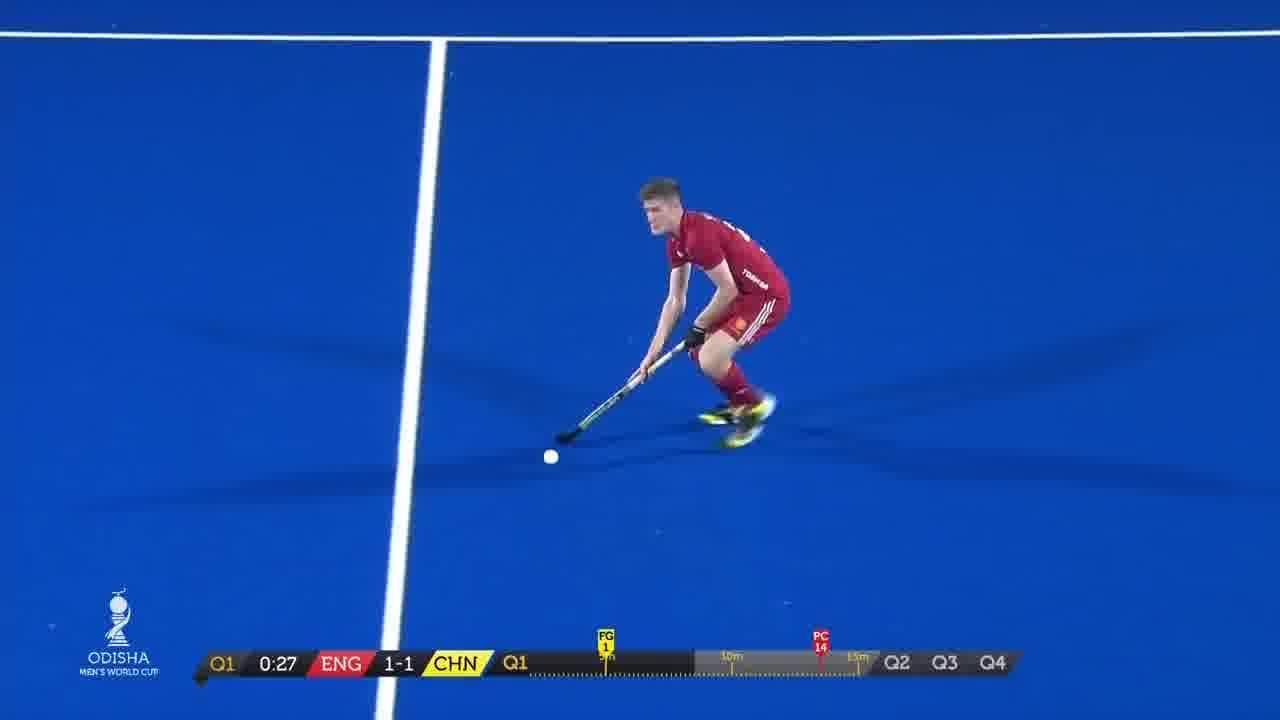ball: (542, 448, 564, 468)
